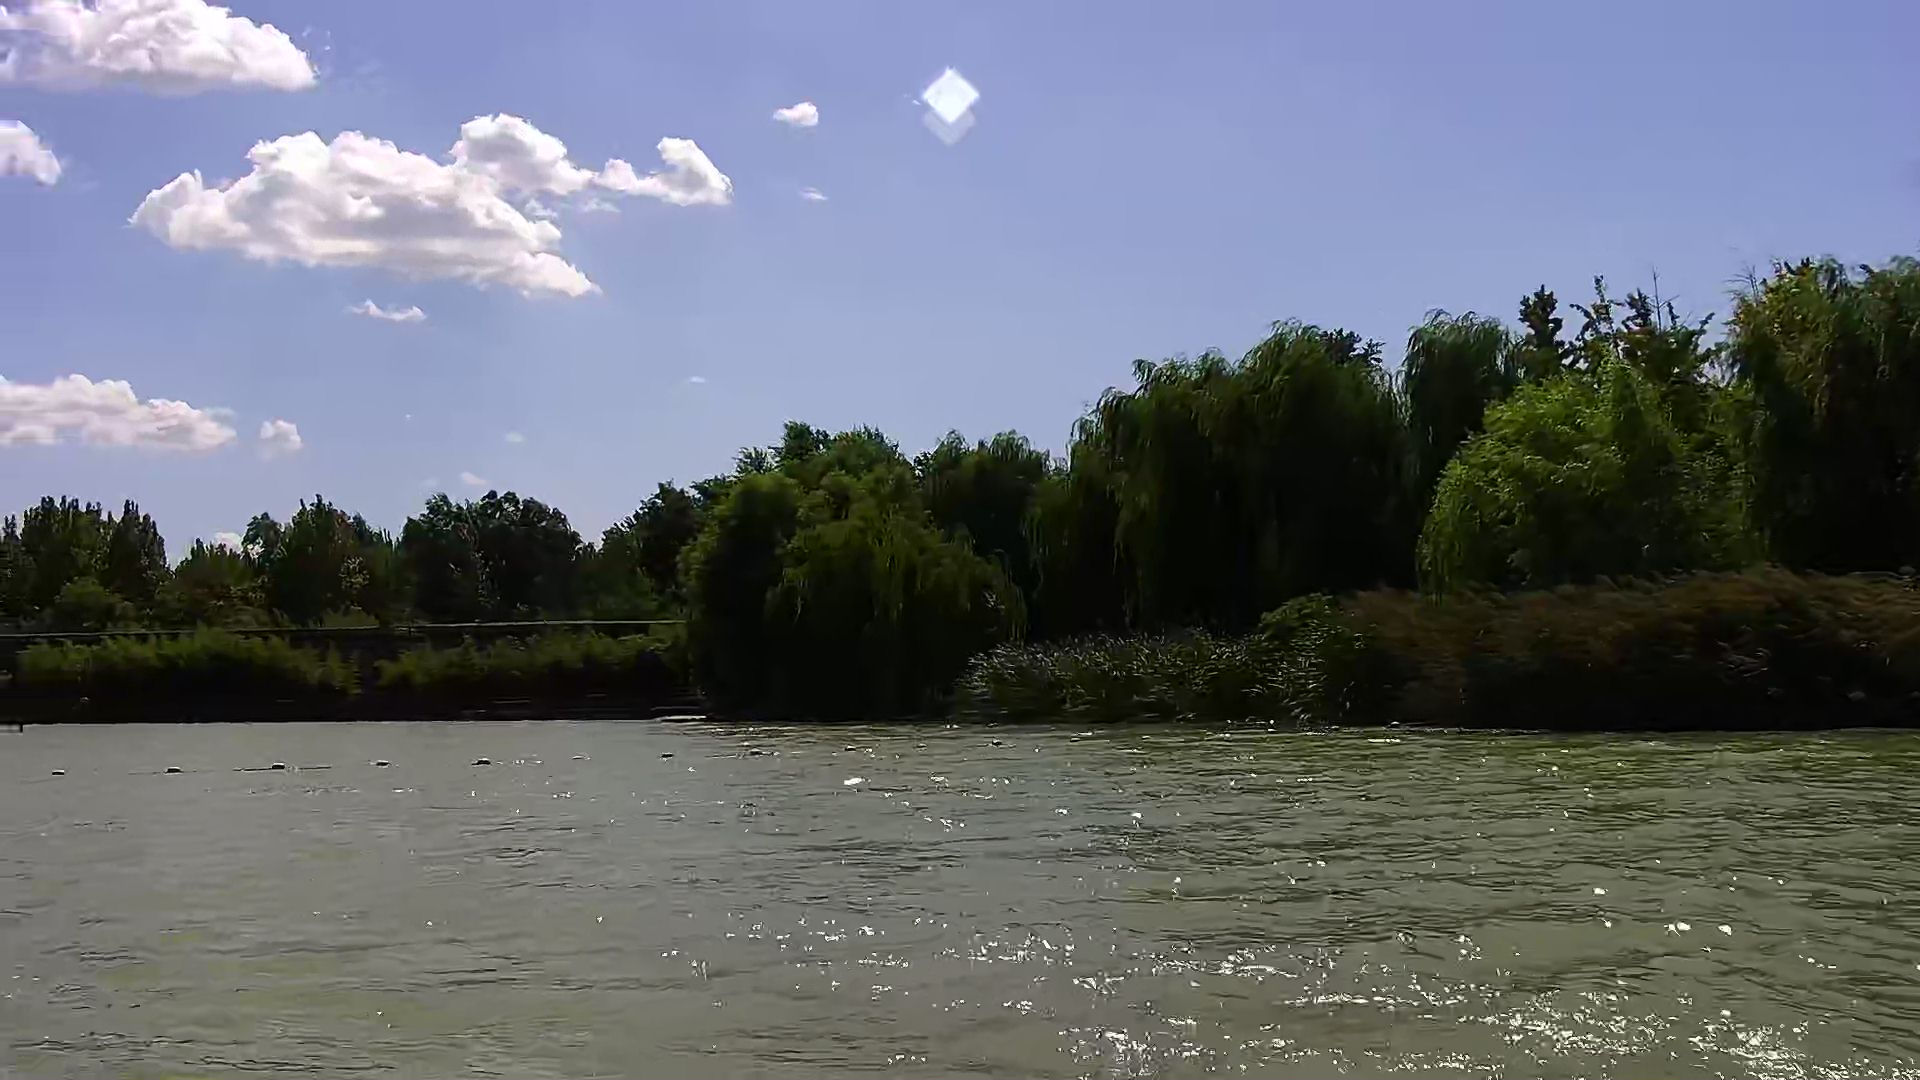ball: (258, 752, 291, 777), (372, 752, 400, 778), (468, 753, 501, 773), (161, 758, 189, 779), (50, 765, 75, 785)
